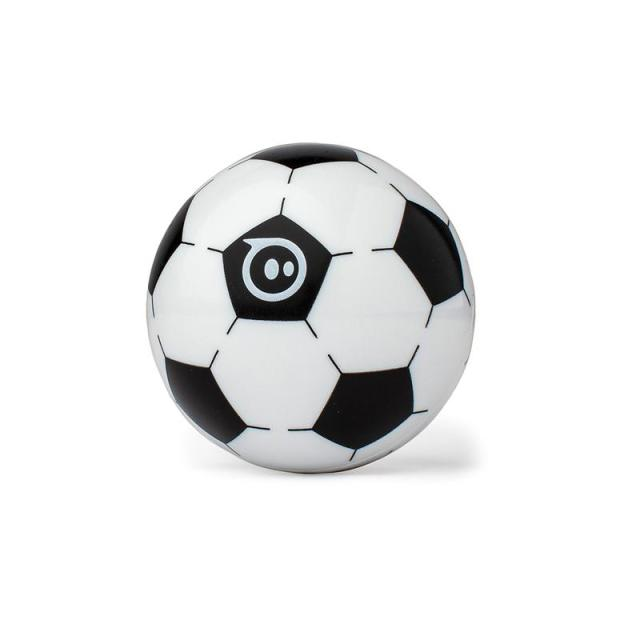soccer ball: (147, 142, 475, 477)
